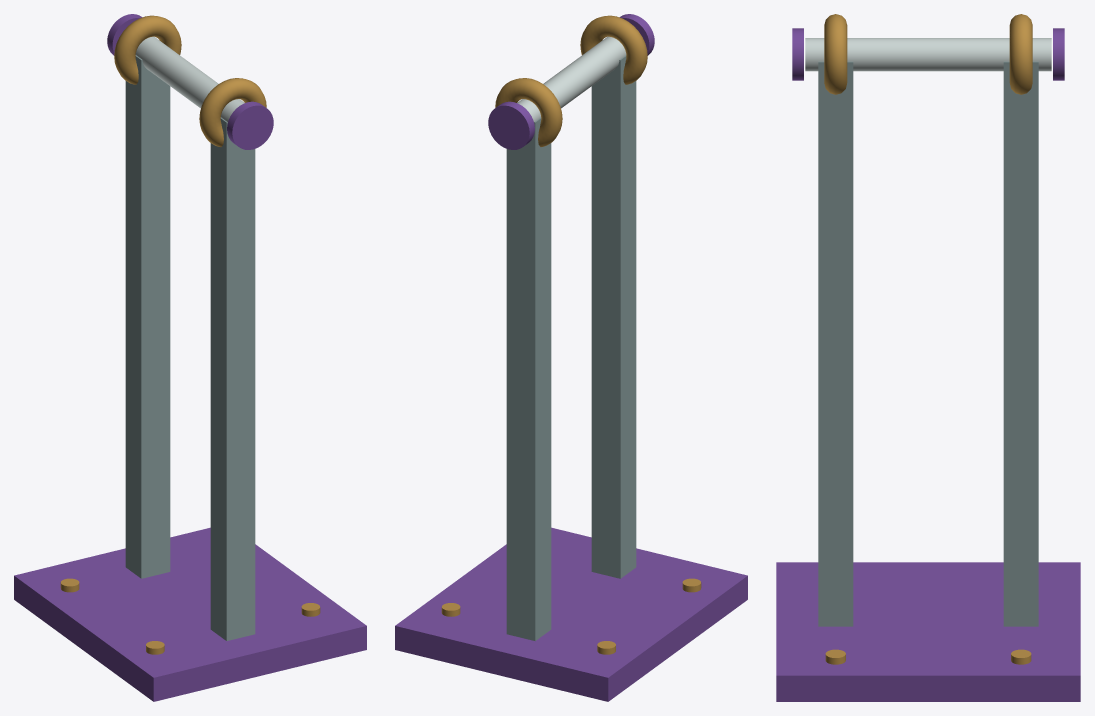
Rendered from fulcrum-support.glb.
3 renders of one model, left to right at view 1: azimuth 30°, elevation 25°; view 2: azimuth 150°, elevation 25°; view 3: azimuth 270°, elevation 25°, orthographic. The views are drawn at different scales.
Parts seen in each view (by area): view 1: fulcrum (×7); view 2: fulcrum (×7); view 3: fulcrum (×8).
Part boxes in pixels (<box>): fulcrum (×7): <box>14,15,366,701</box>; fulcrum (×7): <box>395,15,747,701</box>; fulcrum (×8): <box>776,14,1080,701</box>.
Size of the model in its own units: 3.7 by 9.56 by 4.2.
